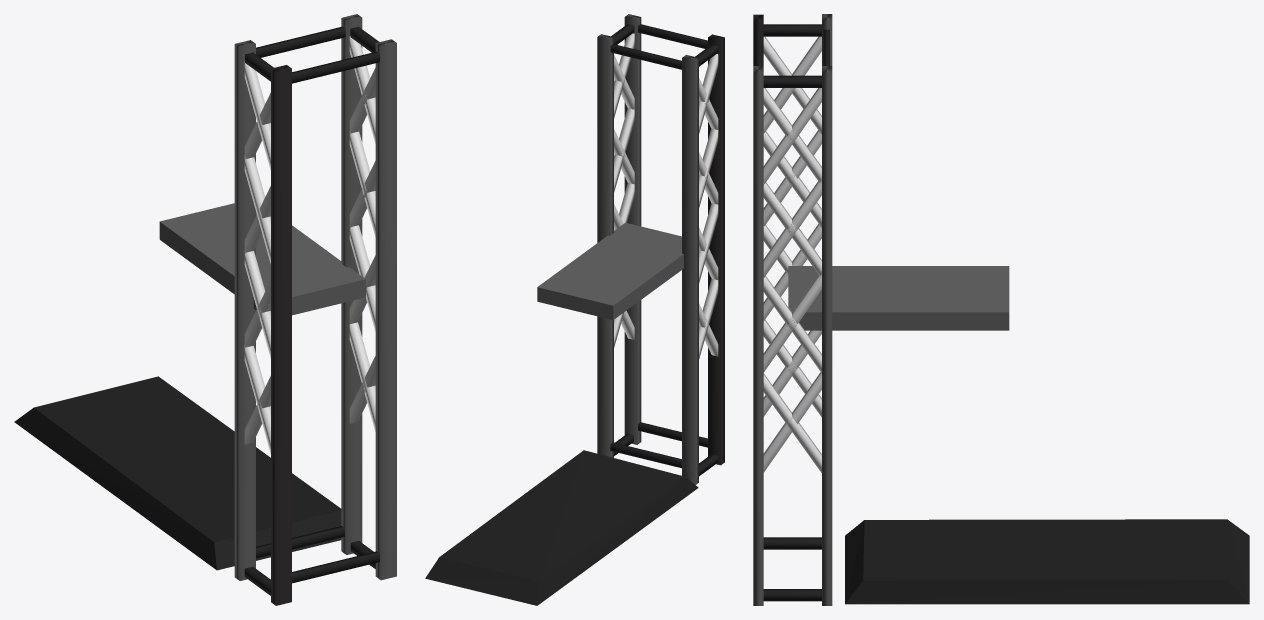
The model's file is rocket_pad.dae.
The picture shows the model from 3 angles, left to right: view 1: azimuth 30°, elevation 25°; view 2: azimuth 150°, elevation 25°; view 3: azimuth 270°, elevation 25°; orthographic projection. The views are drawn at different scales.
Visible parts, largest first — view 1: platform_pad, Cube.001, Cube, Cube.003, Cube.042, Cube.002, Cube.006, Cube.007, Cube.008, Cube.039, Cube.028, Cube.024 (+14 smaller); view 2: platform_pad, Cube.042, Cube.003, Cube.002, Cube, Cube.001, Cube.009, Cube.006, Cube.007, Cube.034, Cube.029, Cube.026 (+8 smaller); view 3: platform_pad, Cube.042, Cube.002, Cube.001, Cube.036, Cube.035, Cube.038, Cube.031, Cube.030, Cube.034, Cube.039, Cube.037 (+11 smaller).
Part boxes in pixels (<box>): platform_pad: <box>14,376,341,570</box>; Cube.001: <box>375,39,396,580</box>; Cube: <box>271,65,291,605</box>; Cube.003: <box>234,40,255,580</box>; Cube.042: <box>159,203,365,315</box>; Cube.002: <box>341,14,362,554</box>; Cube.006: <box>256,26,345,57</box>; Cube.007: <box>292,51,379,83</box>; Cube.008: <box>292,551,379,583</box>; Cube.039: <box>349,322,375,431</box>; Cube.028: <box>244,345,270,453</box>; Cube.024: <box>244,155,270,263</box>; platform_pad: <box>425,450,698,605</box>; Cube.042: <box>537,222,683,319</box>; Cube.003: <box>682,55,698,484</box>; Cube.002: <box>597,34,613,457</box>; Cube: <box>708,34,724,465</box>; Cube.001: <box>624,14,641,444</box>; Cube.009: <box>610,442,681,468</box>; Cube.006: <box>610,44,681,69</box>; Cube.007: <box>638,24,707,48</box>; Cube.034: <box>614,108,634,192</box>; Cube.029: <box>699,279,718,359</box>; Cube.026: <box>699,203,718,283</box>; platform_pad: <box>845,519,1249,604</box>; Cube.042: <box>788,266,1009,330</box>; Cube.002: <box>822,66,832,605</box>; Cube.001: <box>753,66,763,605</box>; Cube.036: <box>763,88,821,184</box>; Cube.035: <box>763,180,821,277</box>; Cube.038: <box>763,373,821,472</box>; Cube.031: <box>763,274,821,372</box>; Cube.030: <box>763,276,821,372</box>; Cube.034: <box>763,182,821,276</box>; Cube.039: <box>763,372,821,472</box>; Cube.037: <box>763,88,821,182</box>.
Size of the model in its own units: 2.89 by 8.85 by 10.47.
Materials: 14 (14 with a texture image).
